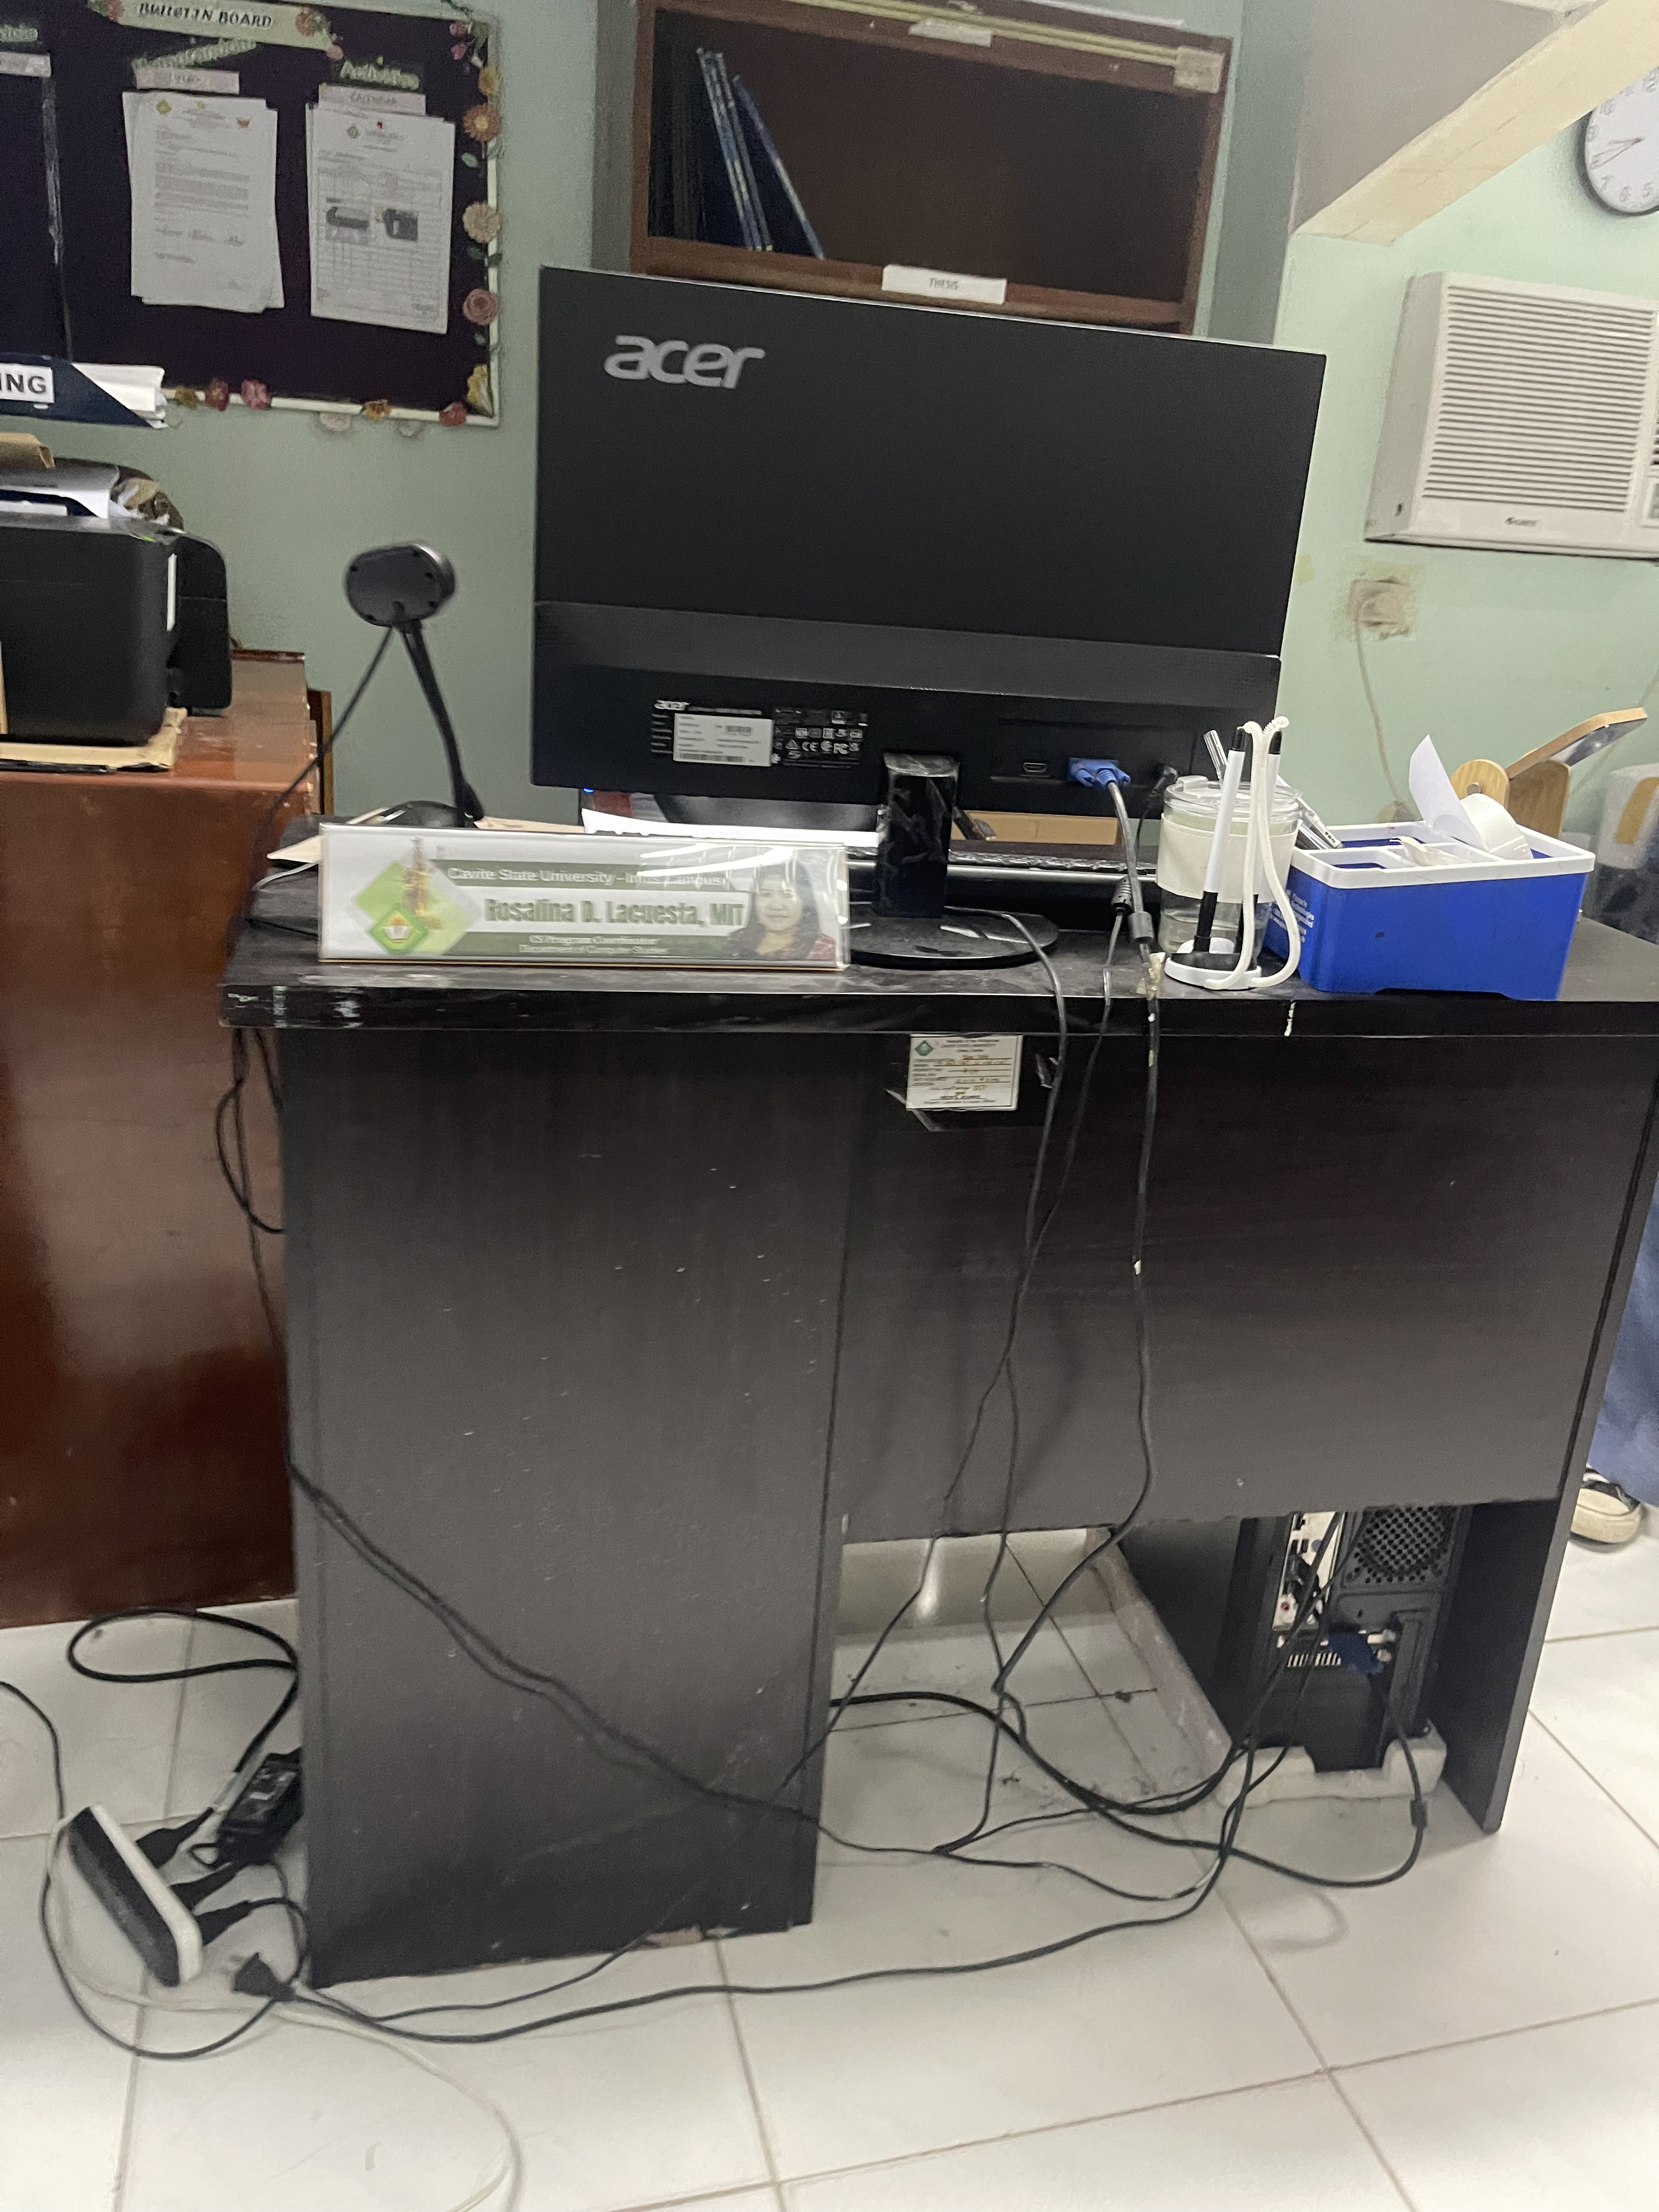table1: (242, 799, 1659, 1980)
